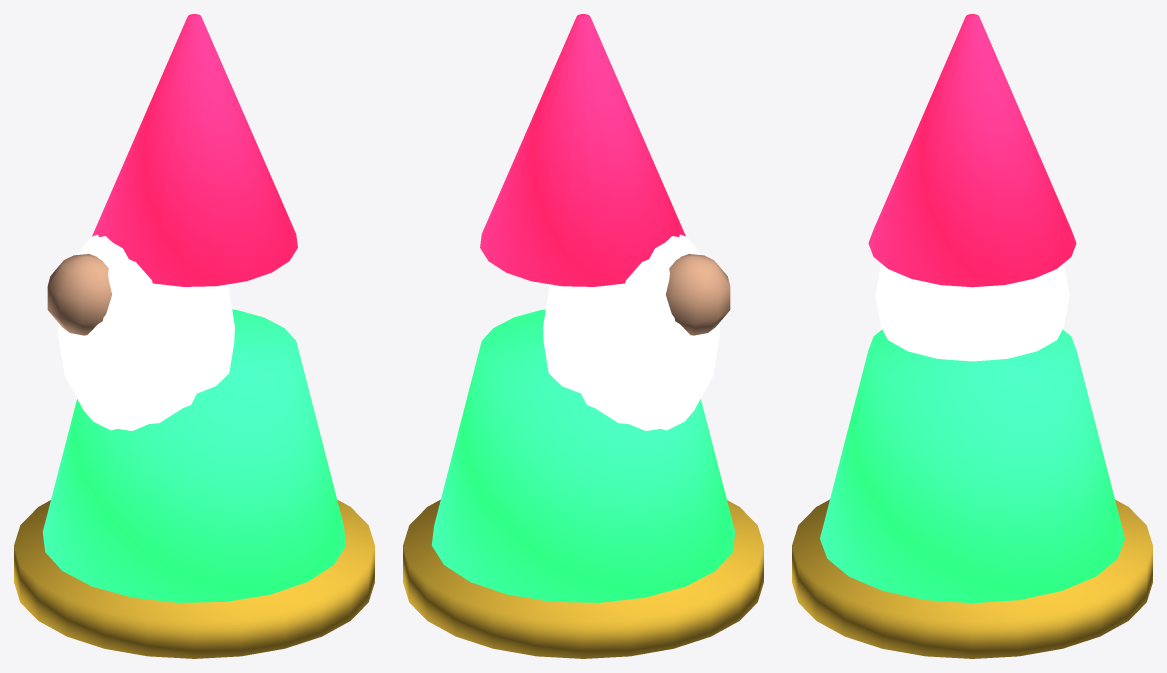
Rendered from prize_gnome.glb.
3 views of the same model, side by side, from view 1: azimuth 30°, elevation 25°; view 2: azimuth 150°, elevation 25°; view 3: azimuth 270°, elevation 25° (orthographic).
Parts seen in each view (by area): view 1: PRIZE_gnome; view 2: PRIZE_gnome; view 3: PRIZE_gnome.
Boxes of the visible parts, box(x1,y1,x2,y2) form: PRIZE_gnome: box(14, 14, 374, 658); PRIZE_gnome: box(403, 14, 763, 658); PRIZE_gnome: box(792, 14, 1152, 658).
Size of the model in its own units: 0.052 by 0.09 by 0.052.
